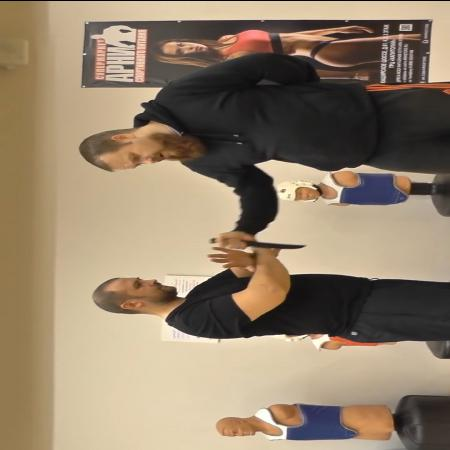long weapon: (205, 235, 310, 252)
